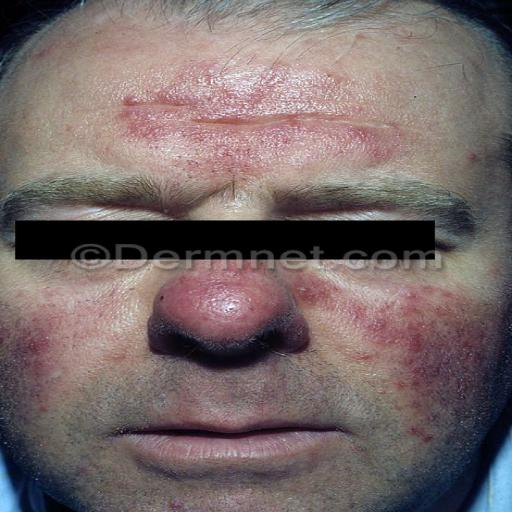Skin_Lesion: (151, 264, 315, 390), (116, 84, 178, 145), (469, 108, 509, 202), (29, 454, 84, 510), (415, 342, 481, 388), (185, 147, 255, 176), (11, 319, 52, 368), (362, 116, 402, 166), (198, 63, 242, 106), (359, 300, 394, 345), (393, 280, 429, 314), (407, 422, 432, 444), (352, 348, 374, 367), (163, 500, 196, 512)
